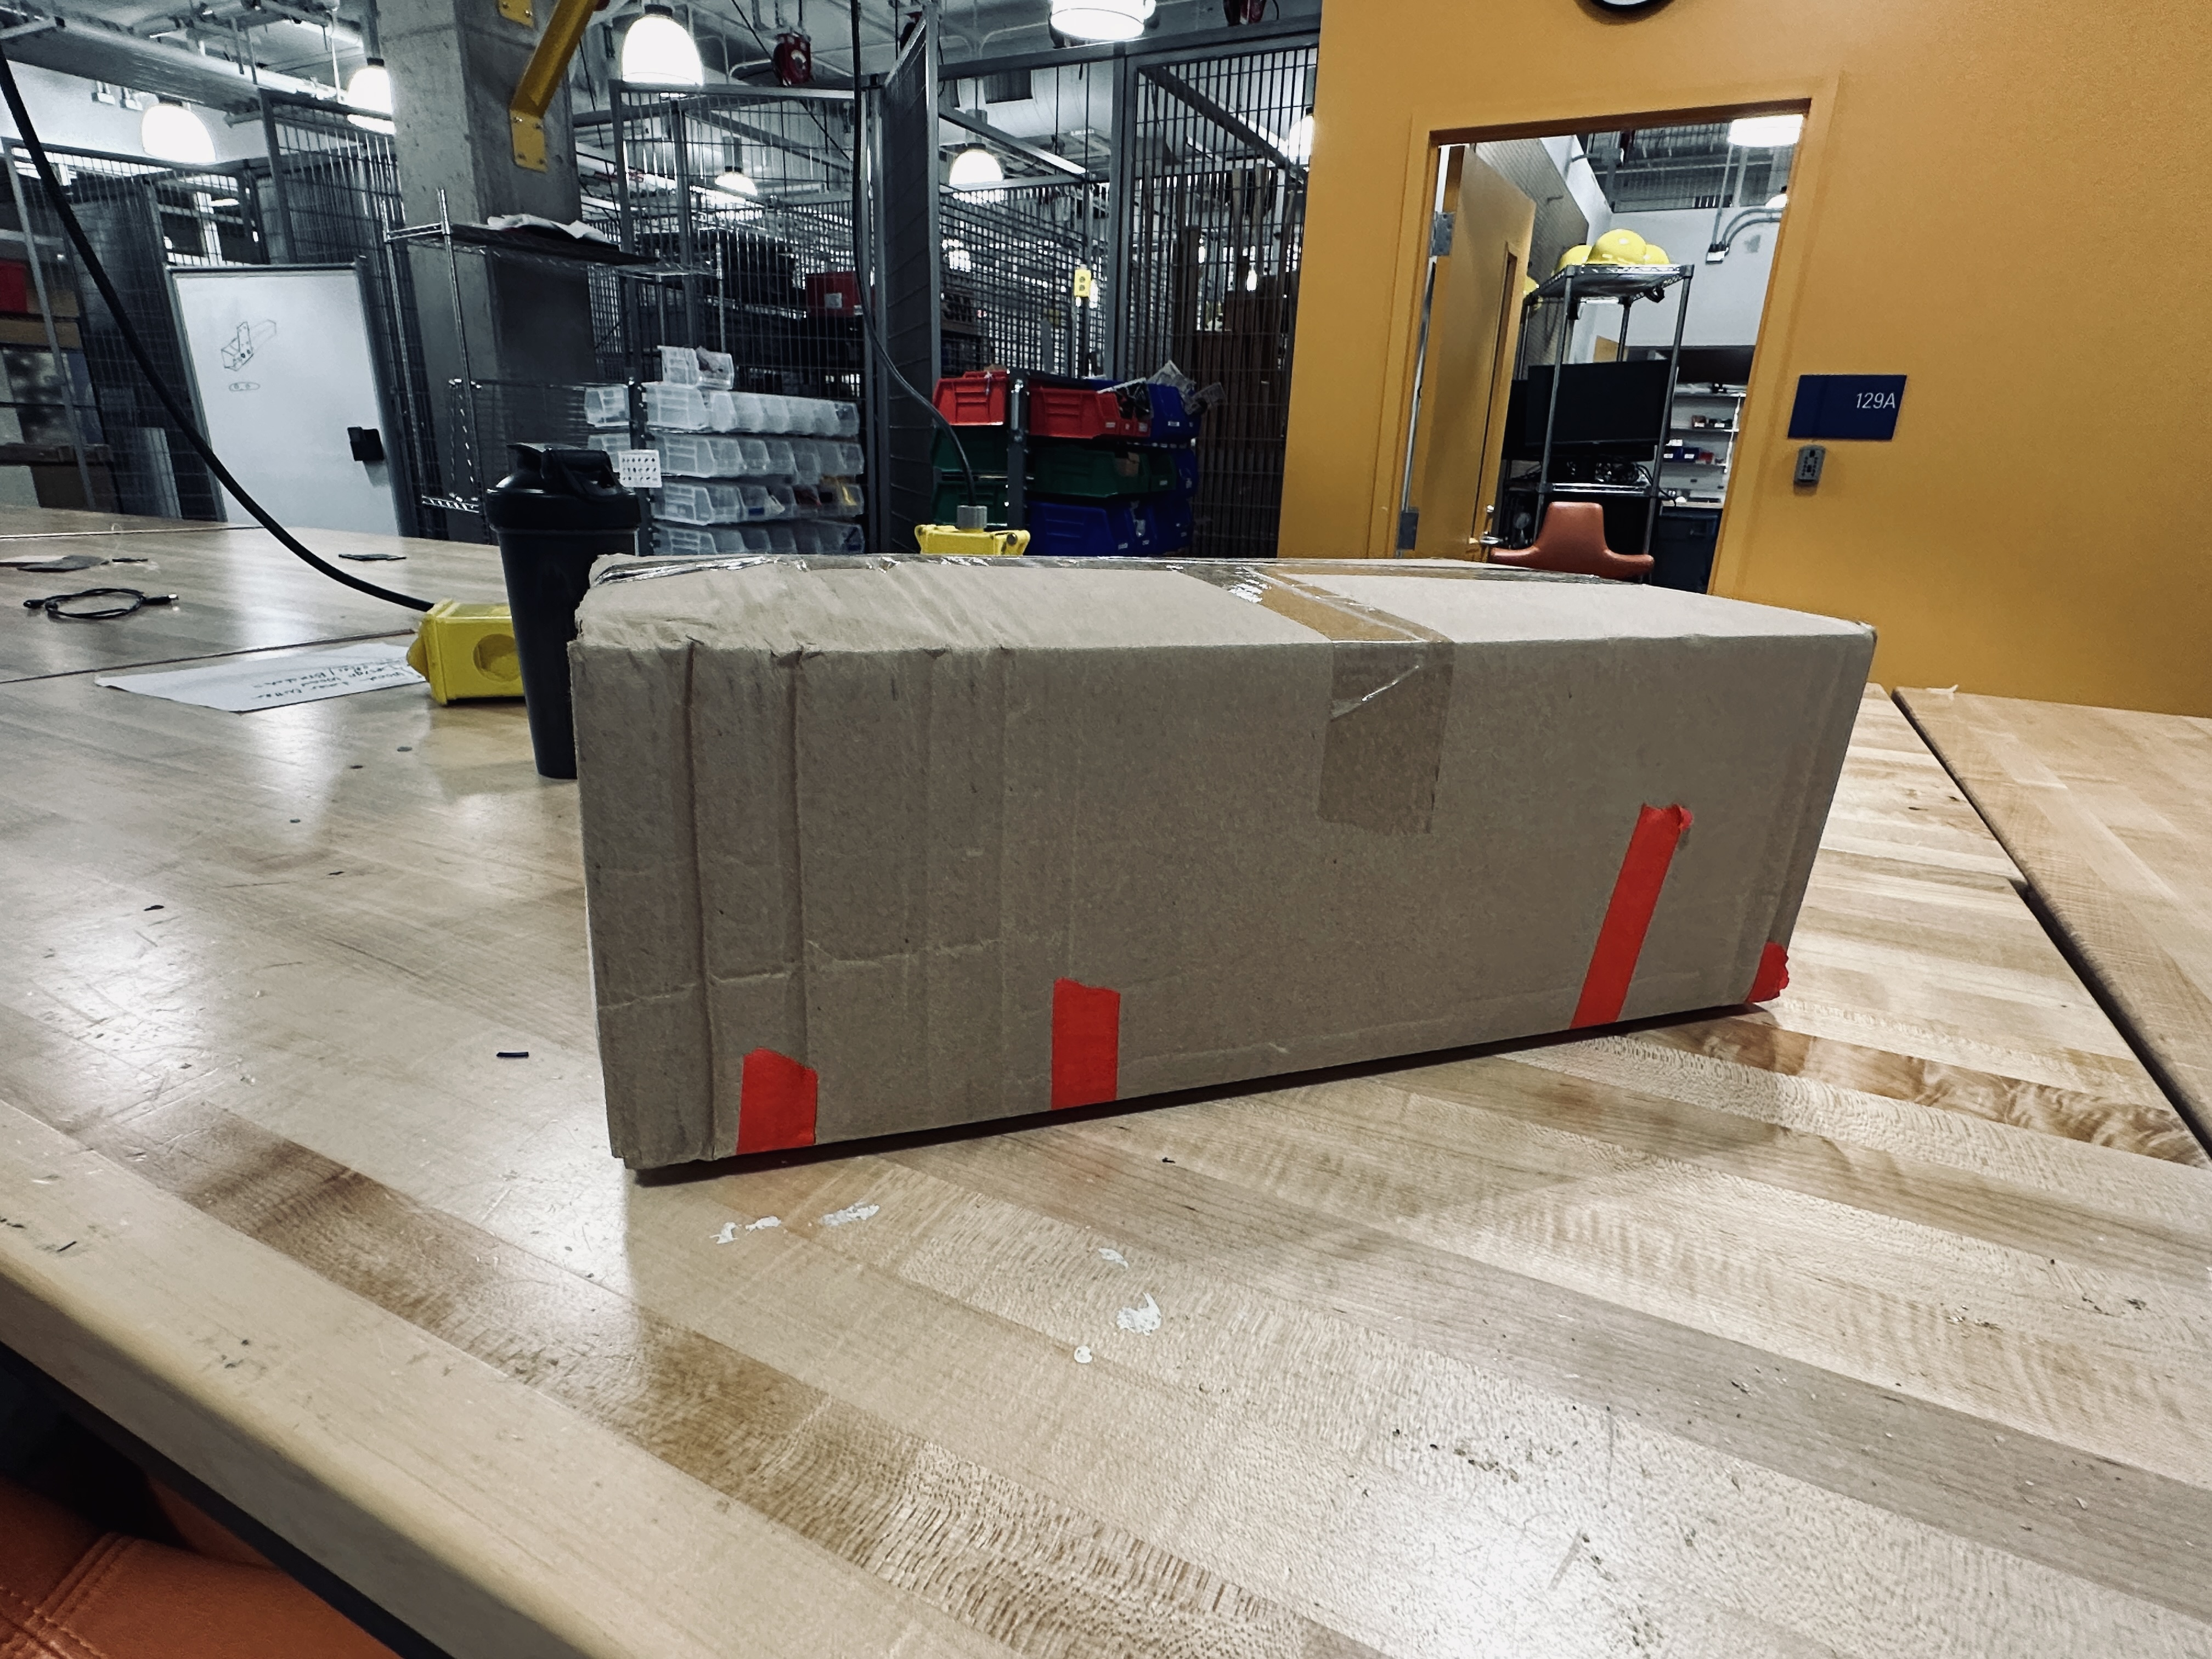Box_Obstacle: (556, 545, 1895, 1193)
